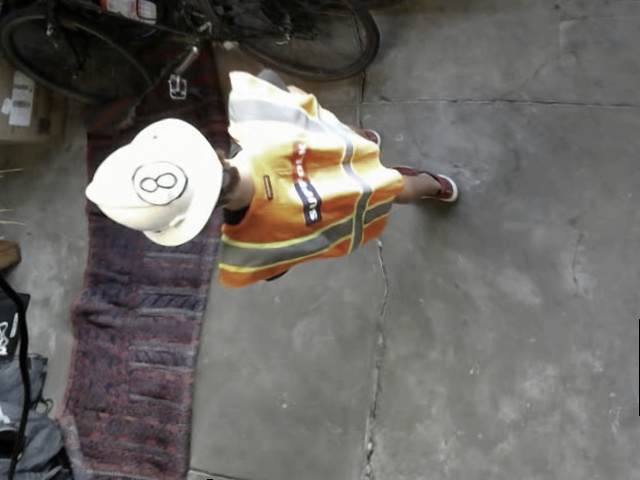eight: (129, 158, 188, 208)
